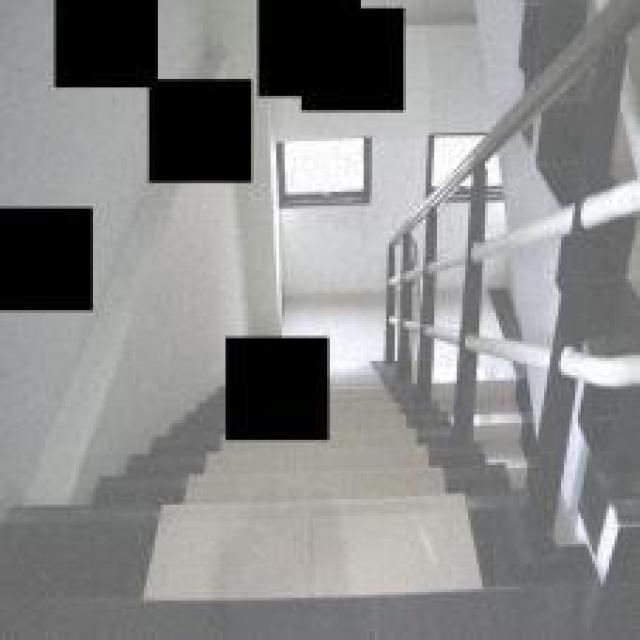downstair: (1, 353, 551, 610)
